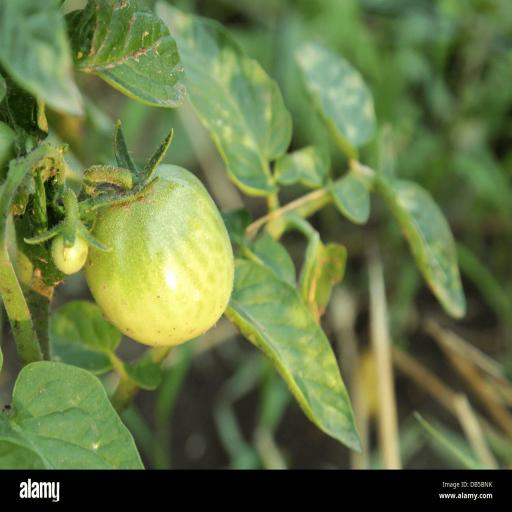disease_tomato: (150, 0, 297, 199), (222, 254, 364, 454), (286, 23, 380, 163)
